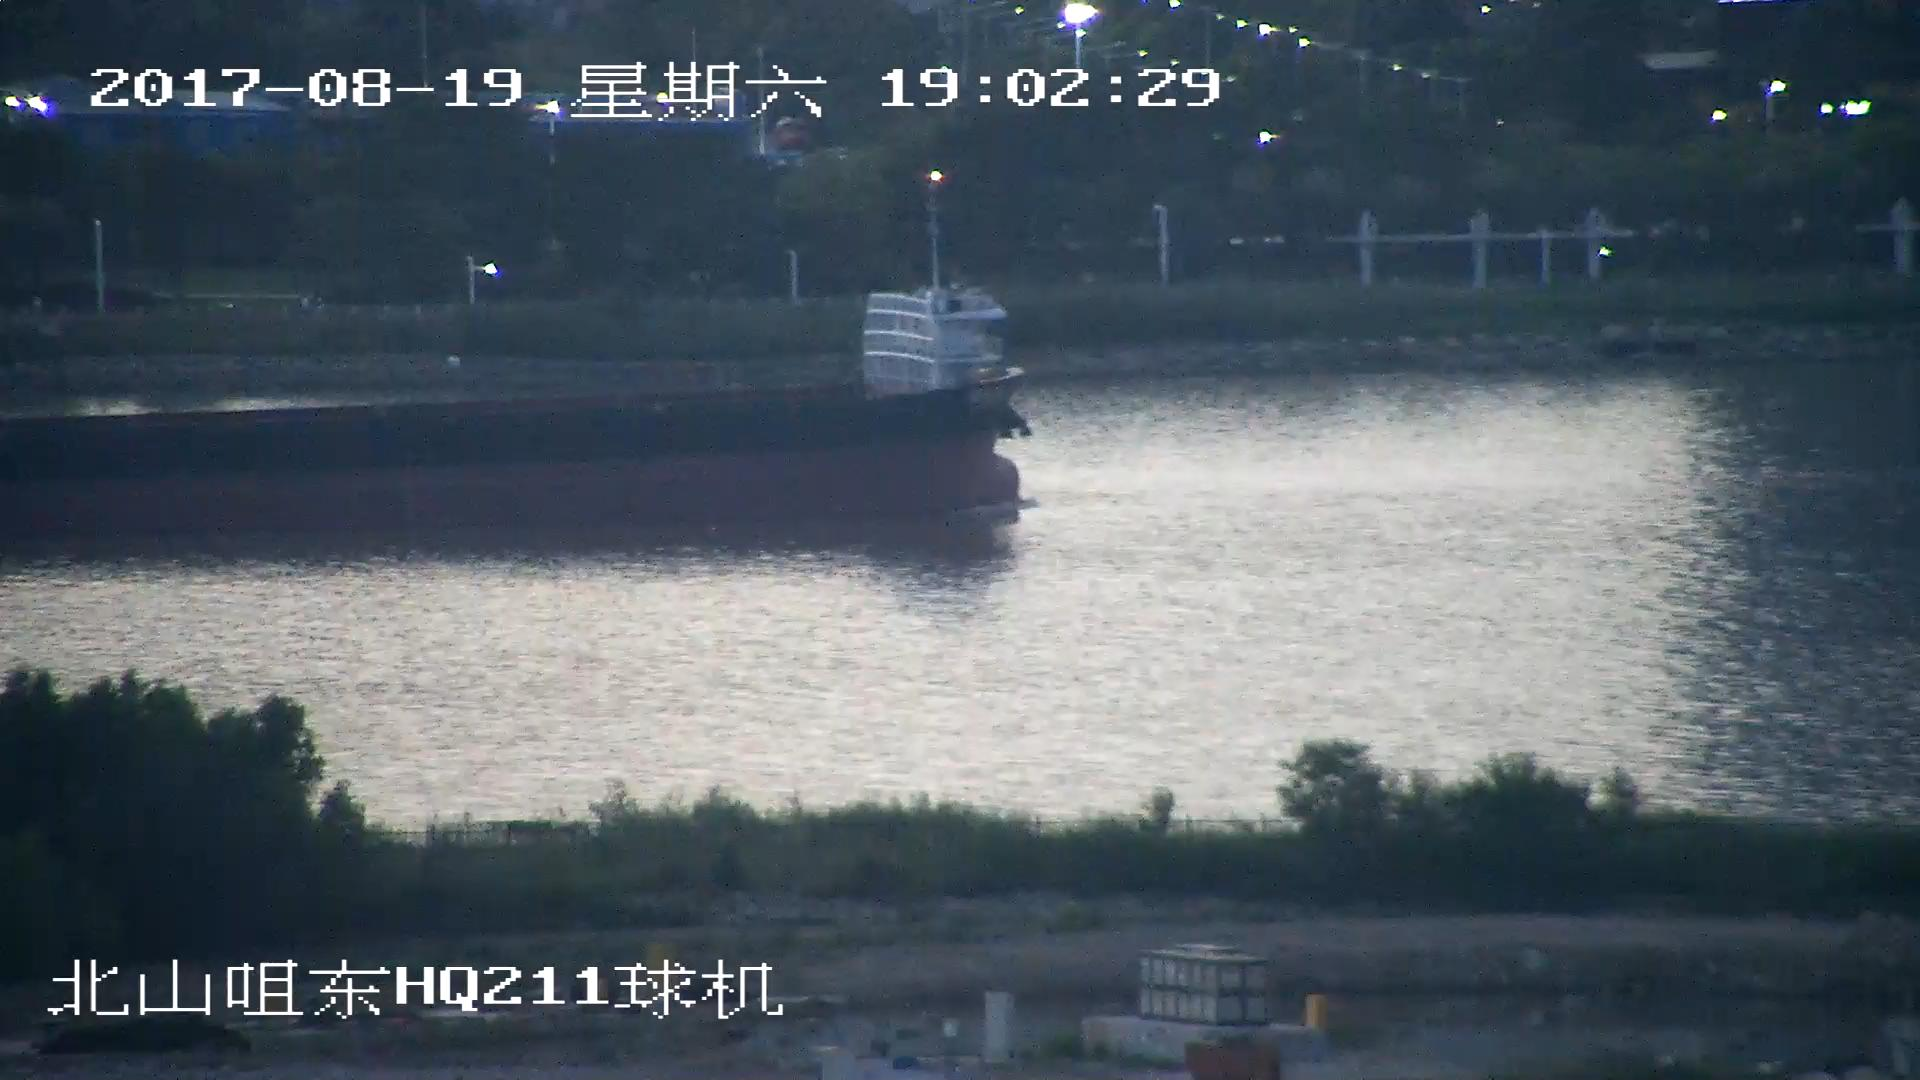general cargo ship: (1, 296, 1032, 524)
